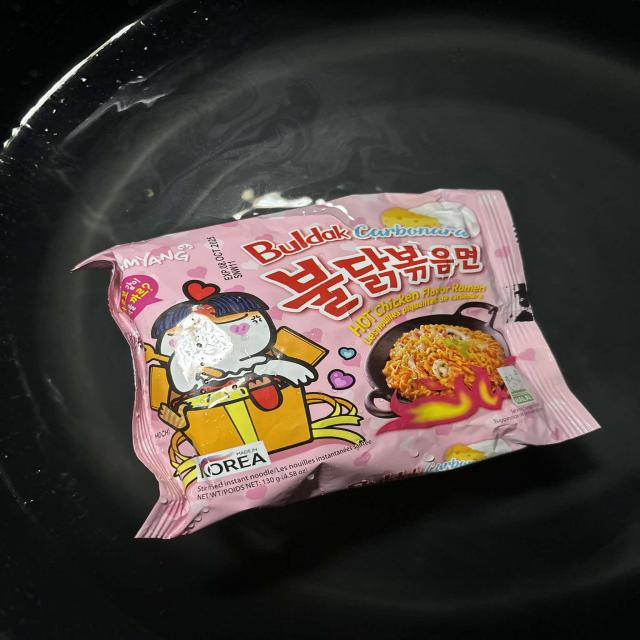Plastic Wrapper: (74, 189, 599, 539)
